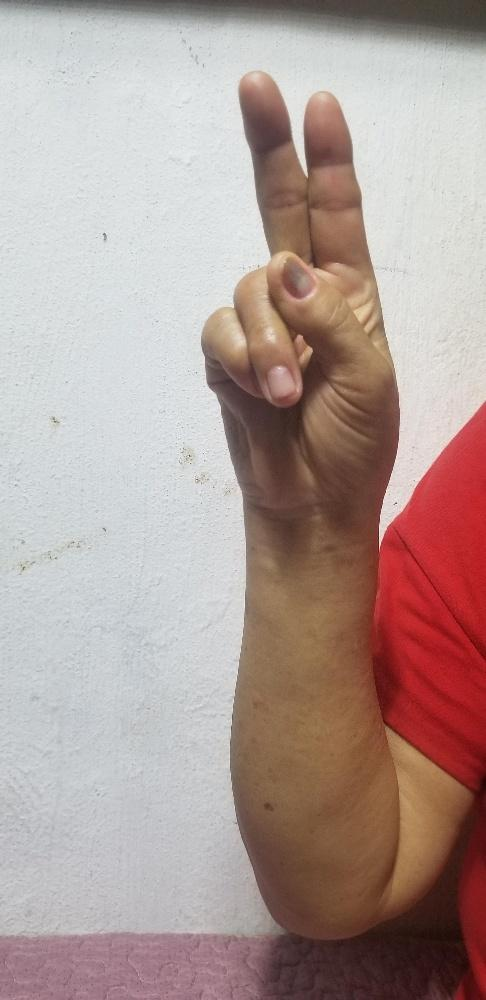u: (198, 69, 404, 477)
